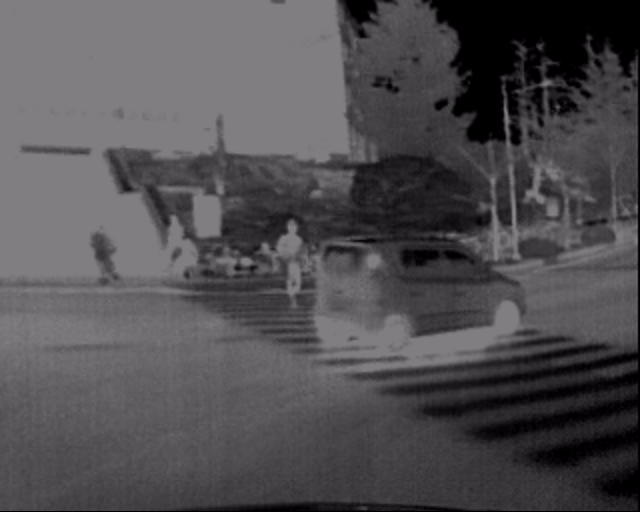person: (62, 218, 105, 292), (271, 215, 303, 303), (158, 215, 188, 284)
